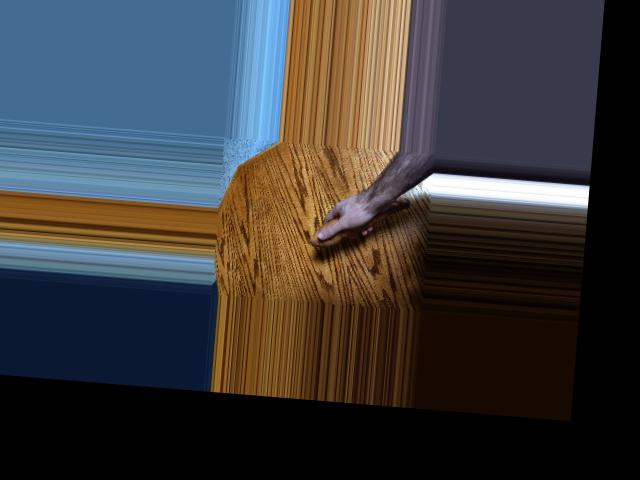sweet_potato: (307, 188, 427, 256)
